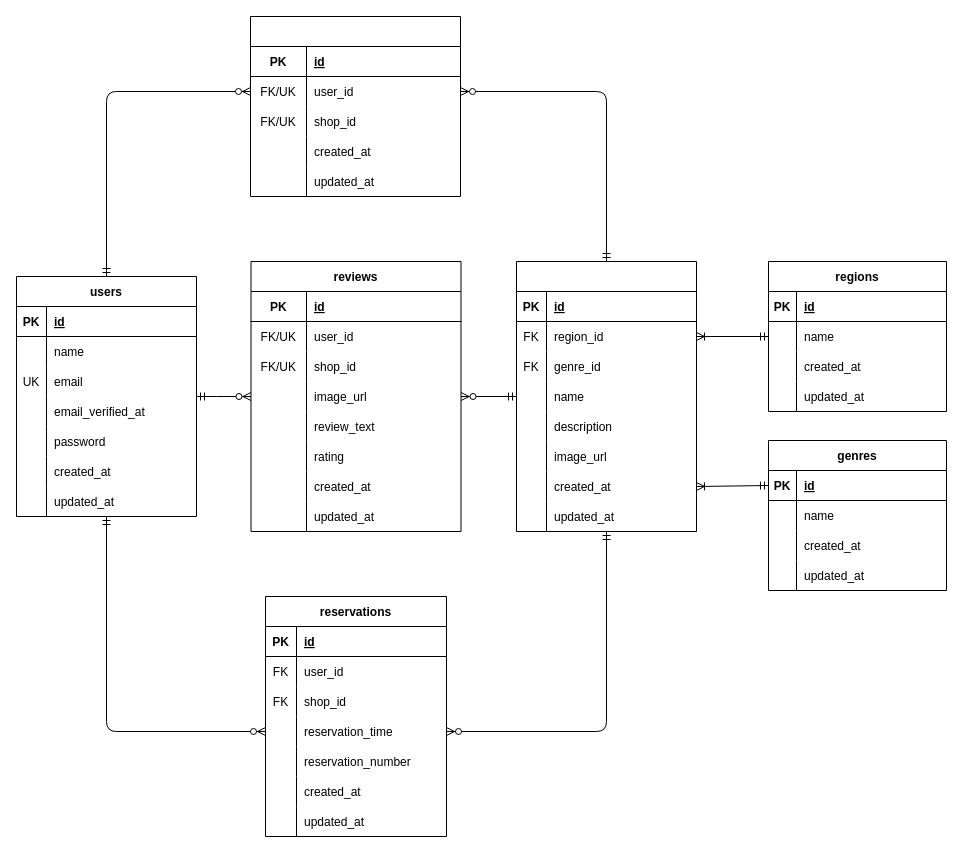
The diagram is 963 pixels wide and 853 high, and some of its shapes have lost their labels. Here are the shapes that lost their labels. From the top down, the box of each, then its label:
(250, 16, 460, 196): likes
(516, 260, 696, 532): shops
